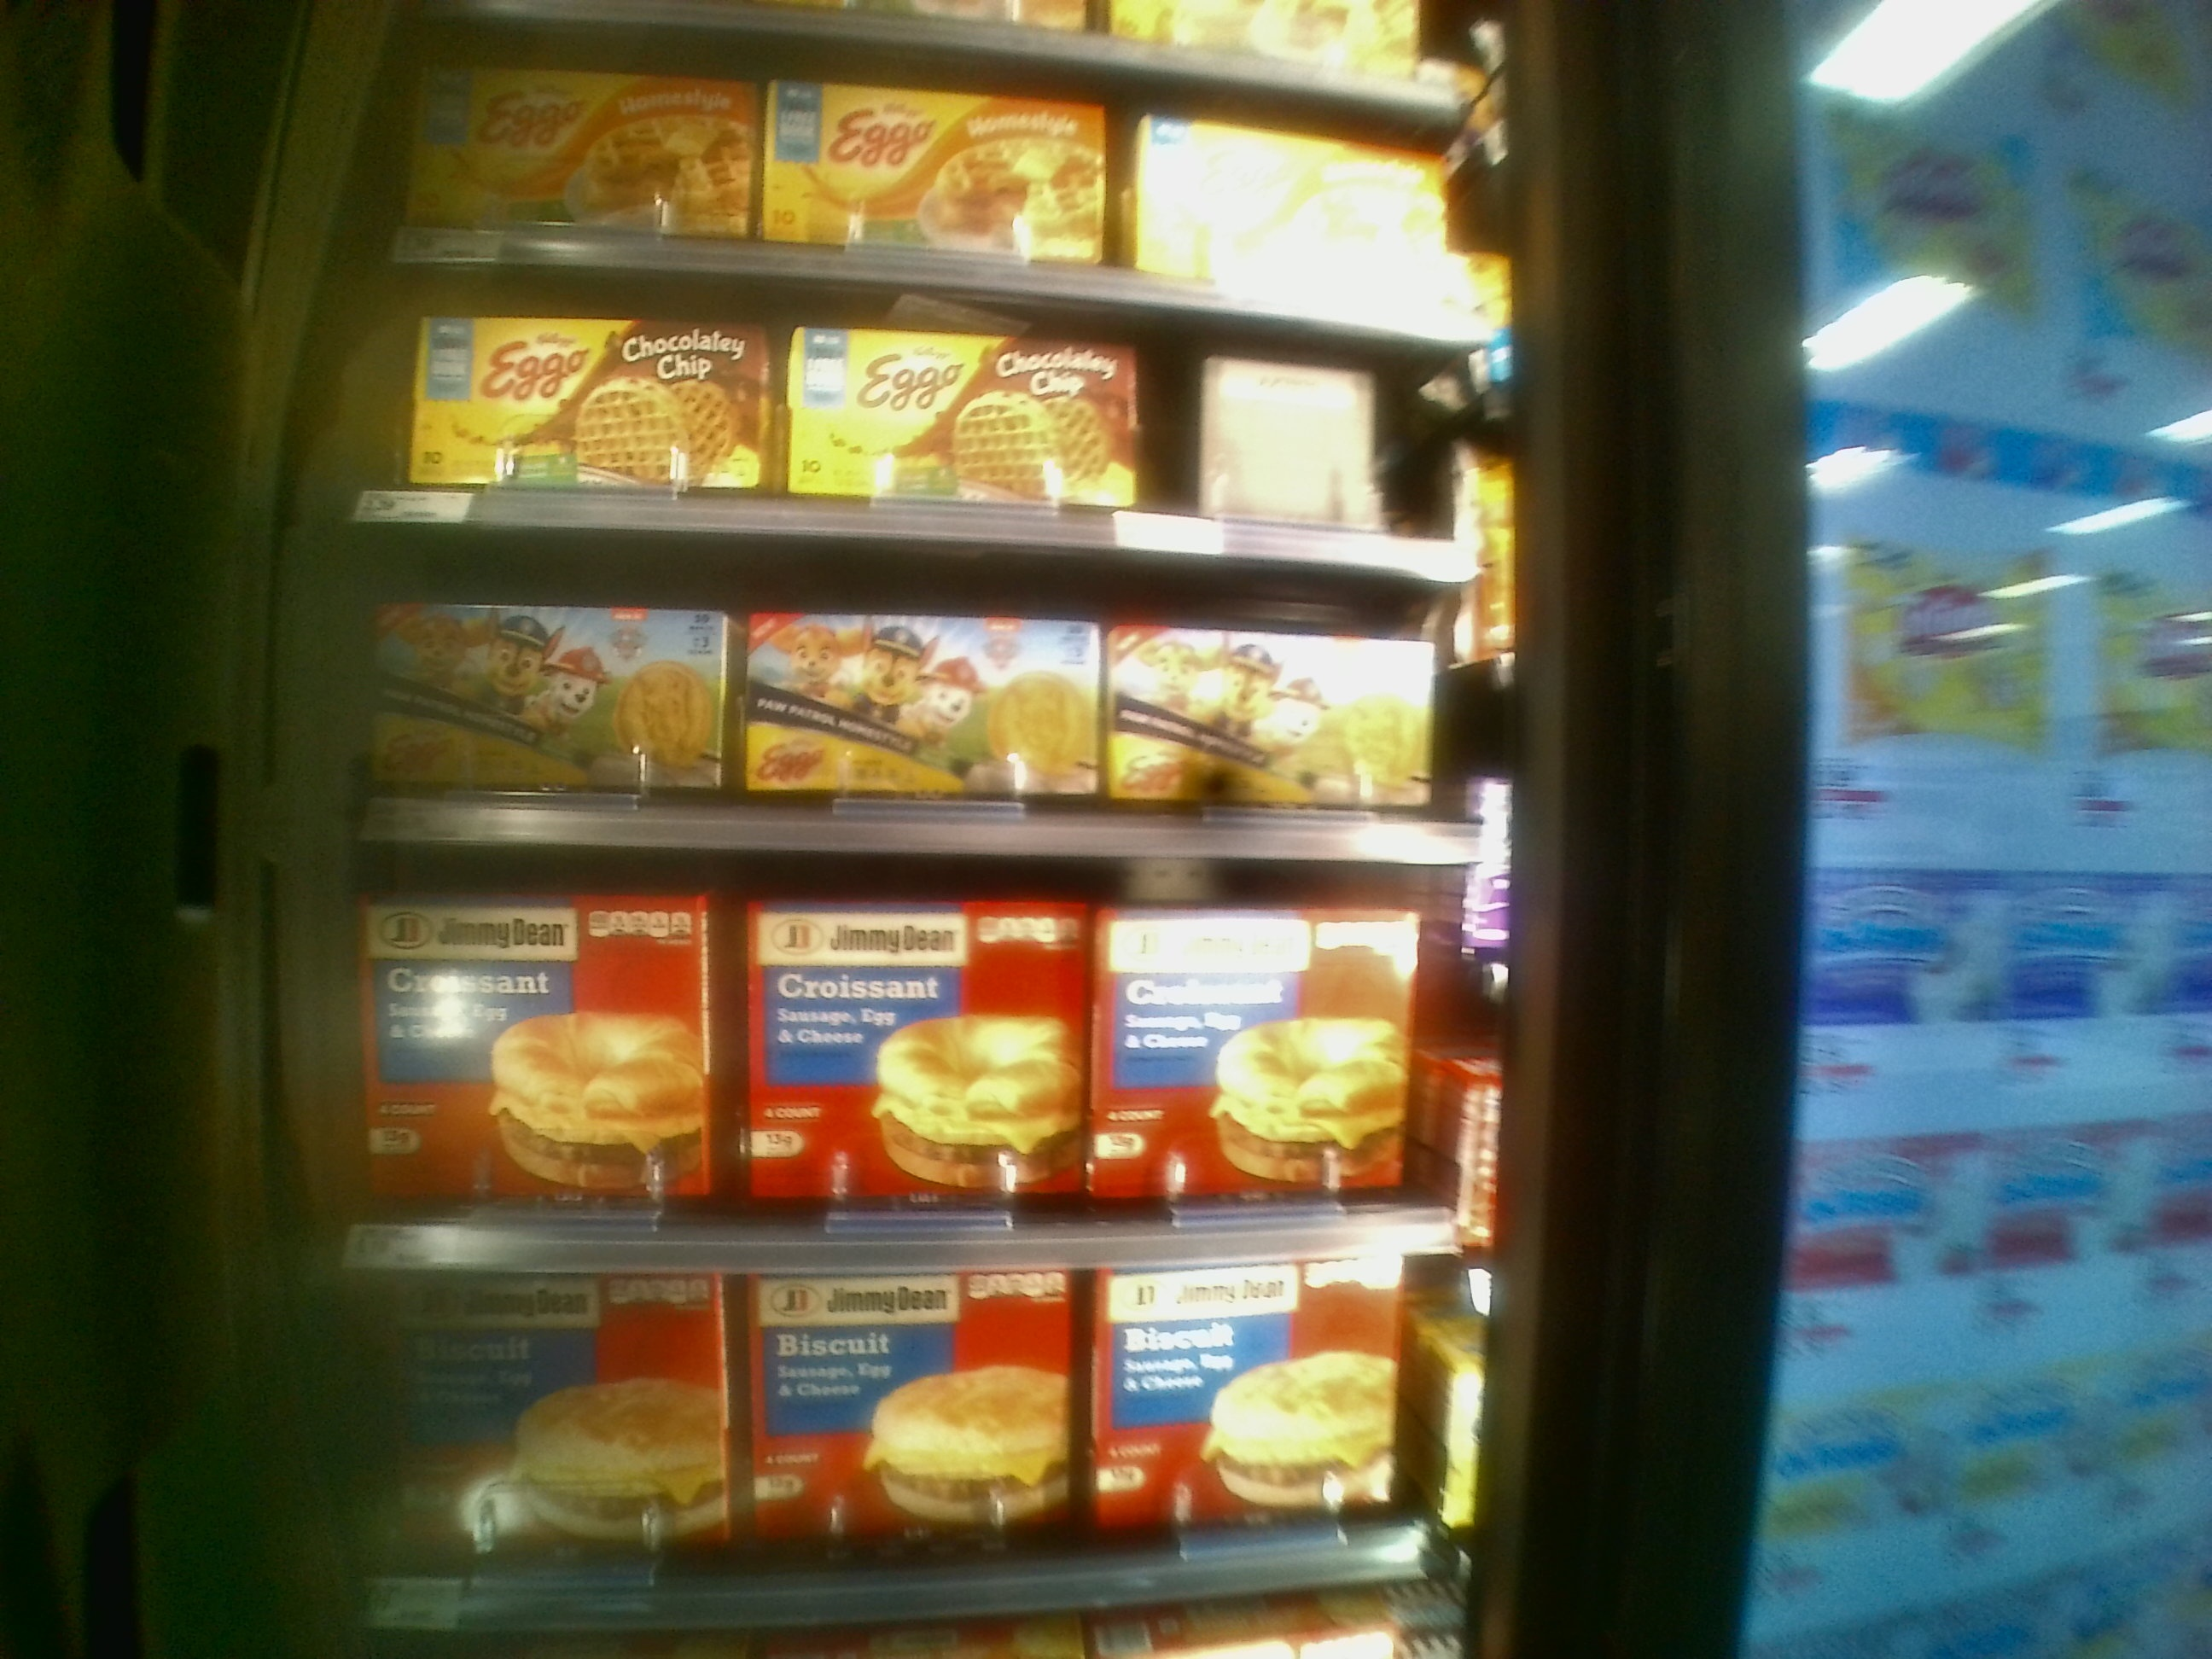shelf: (355, 847, 1433, 1269), (355, 1265, 1468, 1635), (348, 533, 1489, 849), (343, 256, 1480, 572)
